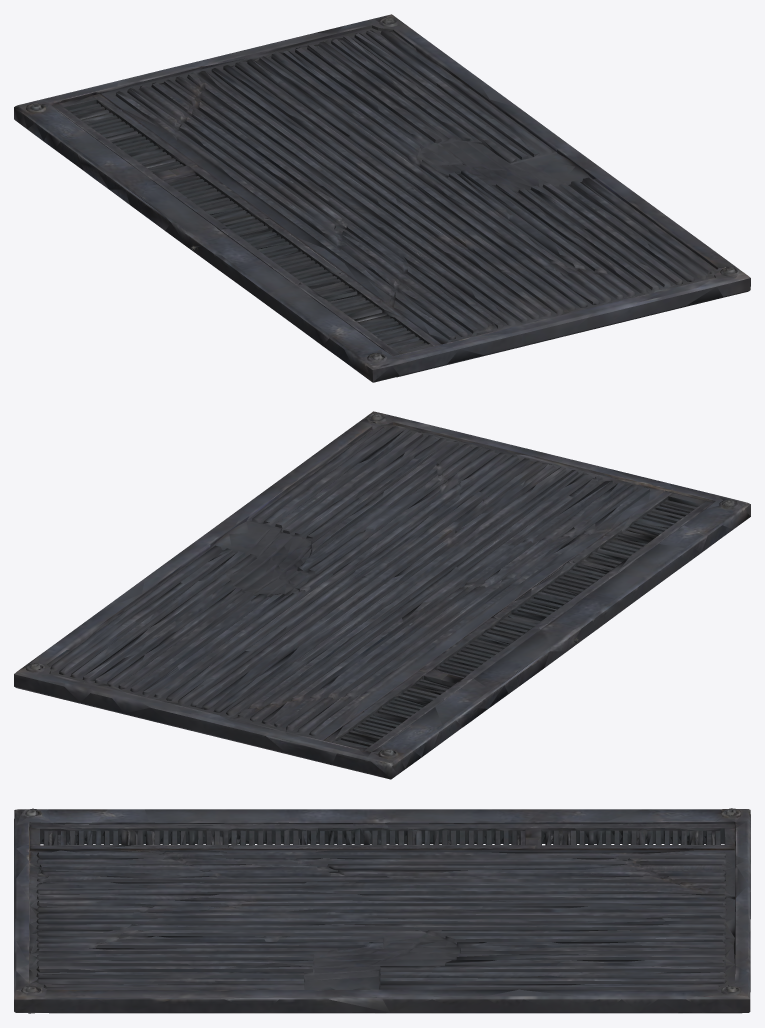
Rendered from WetDeckSection.glb.
3 views of the same model, one above another, from view 1: azimuth 30°, elevation 25°; view 2: azimuth 150°, elevation 25°; view 3: azimuth 270°, elevation 25° (orthographic). The views are drawn at different scales.
Parts seen in each view (by area): view 1: tripo_node_0e206ccc-70a7-4bb0-a797-e11a7728ae79; view 2: tripo_node_0e206ccc-70a7-4bb0-a797-e11a7728ae79; view 3: tripo_node_0e206ccc-70a7-4bb0-a797-e11a7728ae79.
Boxes of the visible parts, <box> form: tripo_node_0e206ccc-70a7-4bb0-a797-e11a7728ae79: <box>14,14,750,382</box>; tripo_node_0e206ccc-70a7-4bb0-a797-e11a7728ae79: <box>14,411,750,779</box>; tripo_node_0e206ccc-70a7-4bb0-a797-e11a7728ae79: <box>14,808,750,1013</box>.
Size of the model in its own units: 0.6014 by 0.0342 by 0.9794.
1 material, 1 textured.
